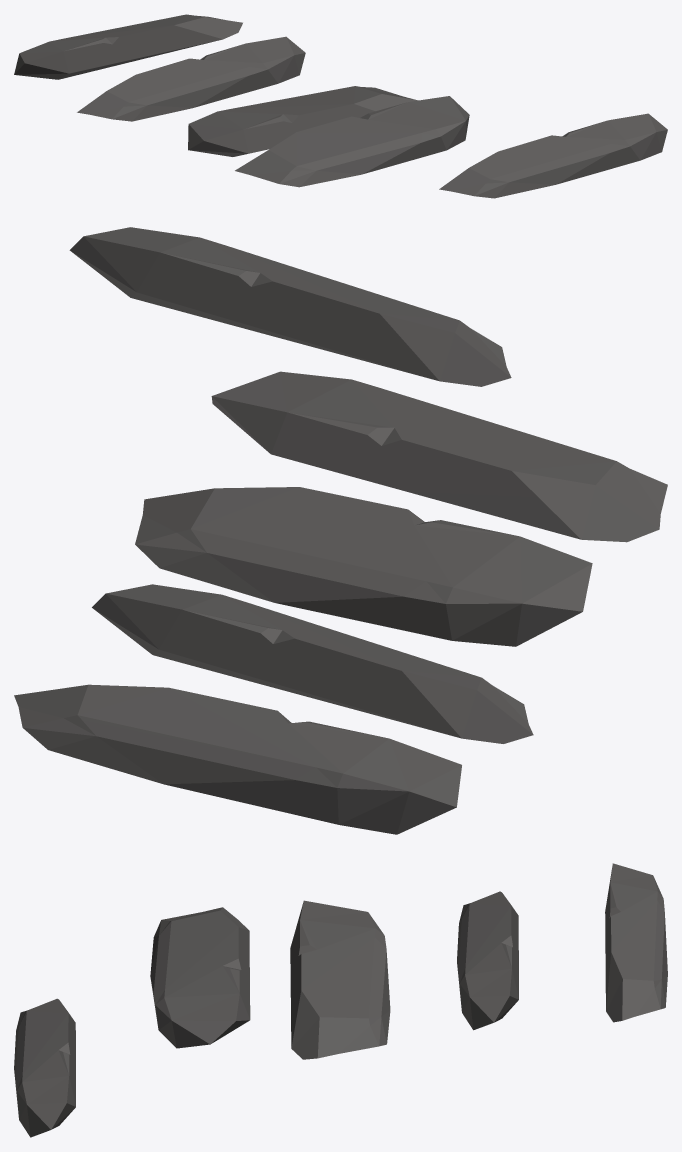
Rendered from FoilageStones.fbx.
3 renders of one model, top to bottom at view 1: azimuth 30°, elevation 25°; view 2: azimuth 150°, elevation 25°; view 3: azimuth 270°, elevation 25°, orthographic. The views are drawn at different scales.
Visible parts, largest first — view 1: stone_f__17_; view 2: stone_f__17_; view 3: stone_f__17_.
Boxes of the visible parts, <box> form: stone_f__17_: <box>14,14,667,198</box>; stone_f__17_: <box>14,227,667,834</box>; stone_f__17_: <box>14,863,667,1137</box>.
Bounding box in the file's own units: 8659 × 831 × 9155.
